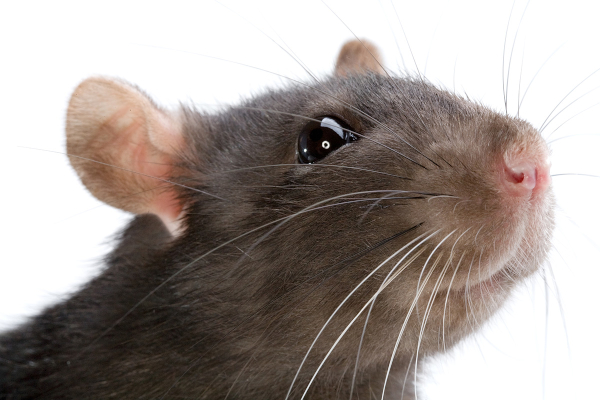rat: (1, 32, 573, 400)
